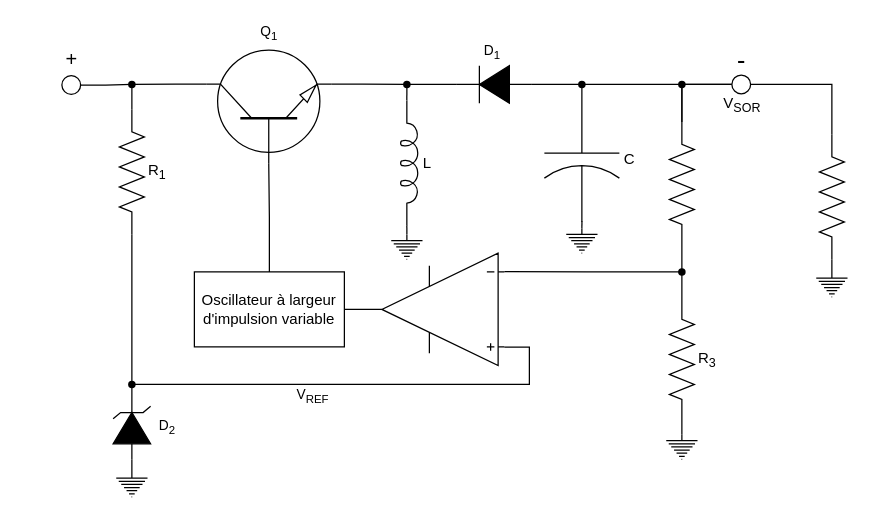
Image size: 888x519. Some labels were removed from this diagram. The centre of each missing label's shape, as x and y in pixels:
R 2: [681,184]
R C: [831,196]
V ENT: [71,84]
